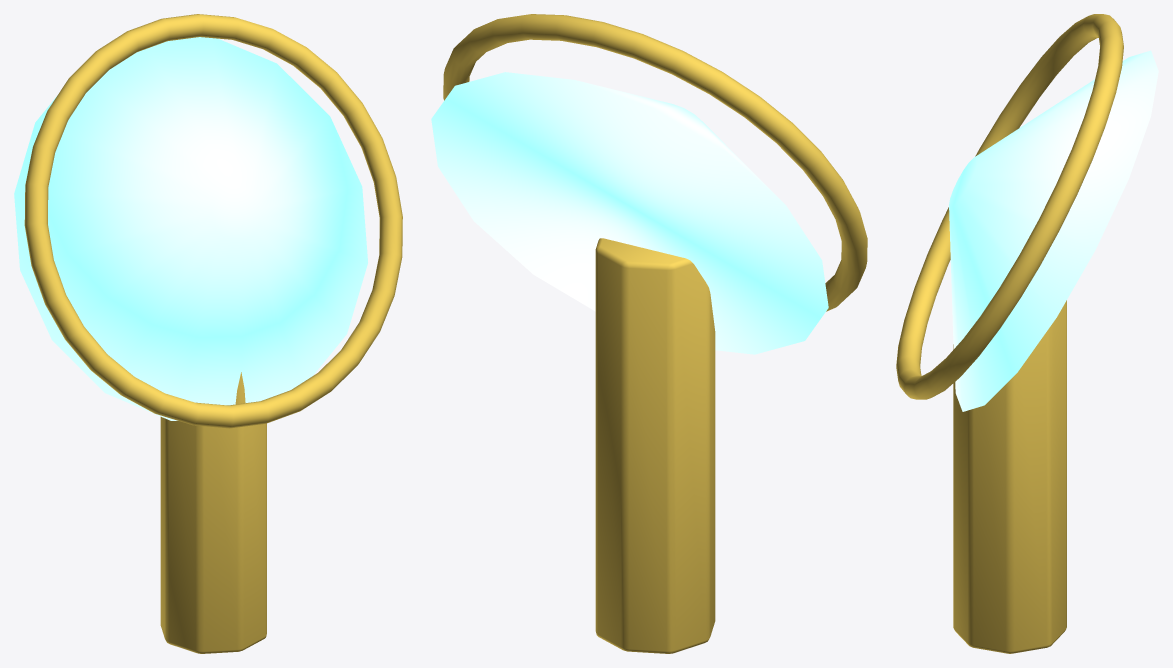
The model's file is prop_survey_beacon.glb.
3 views of the same model, side by side, from view 1: azimuth 30°, elevation 25°; view 2: azimuth 150°, elevation 25°; view 3: azimuth 270°, elevation 25° (orthographic). The views are drawn at different scales.
Parts seen in each view (by area): view 1: dish, dish_rim, tripod_stem; view 2: dish, tripod_stem, dish_rim; view 3: dish, tripod_stem, dish_rim.
Part boxes in pixels (x1,y1,x2,y2): dish: (14,37,367,420); dish_rim: (24,14,402,428); tripod_stem: (160,372,266,653); dish: (431,72,828,354); tripod_stem: (595,238,715,653); dish_rim: (443,14,867,311); dish: (949,50,1158,411); tripod_stem: (953,300,1066,653); dish_rim: (896,14,1123,399).
Bounding box in the file's own units: 1.8 × 2.74 × 1.09.
